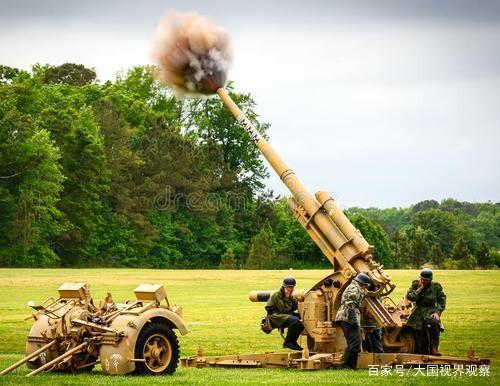MIL_SPG: (182, 89, 490, 375)
